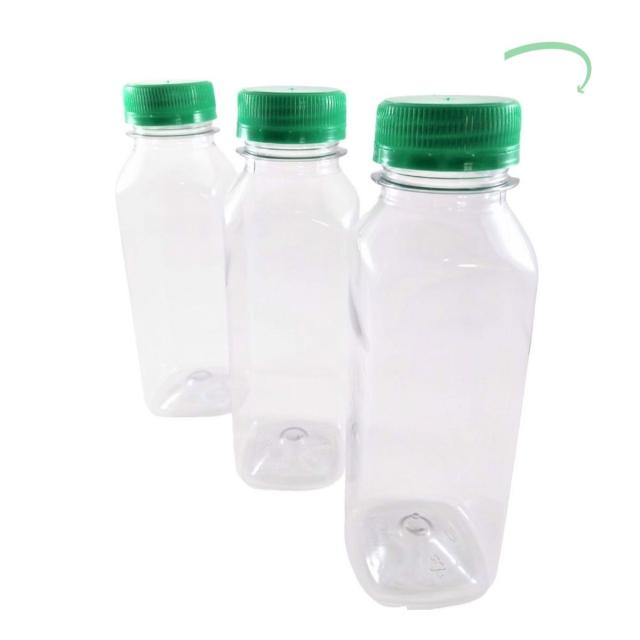bottom: (344, 486, 502, 607), (227, 408, 344, 498), (142, 352, 238, 425)
cap: (369, 83, 537, 207), (239, 84, 346, 168), (120, 75, 225, 143)
